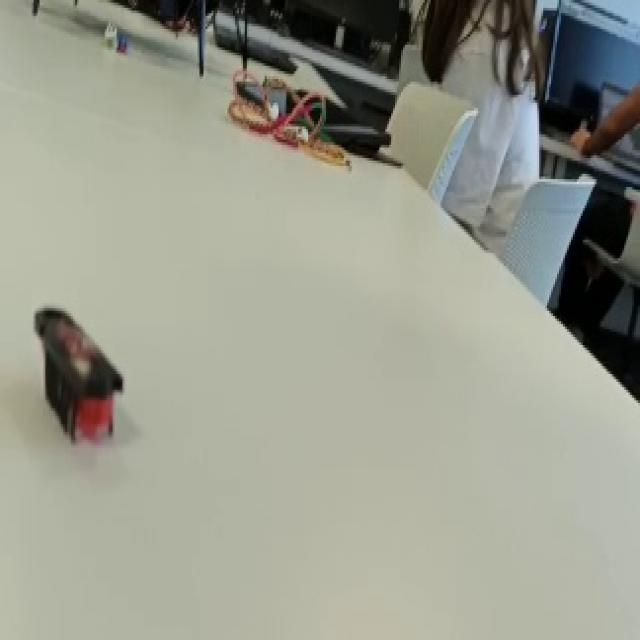2_NanoBug_Negro: (14, 285, 136, 464)
